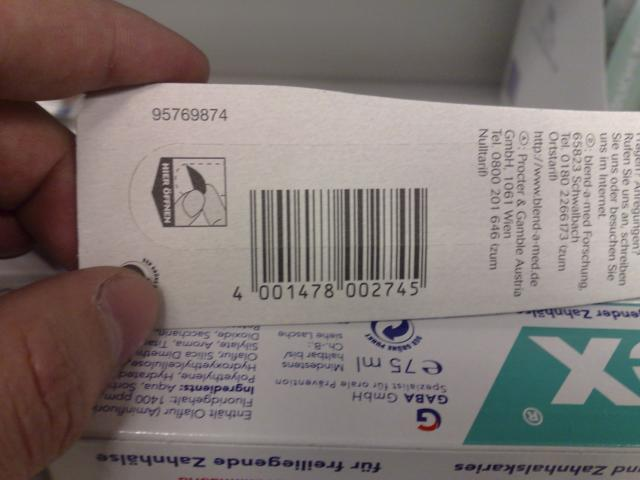Barcode: (230, 173, 442, 309)
